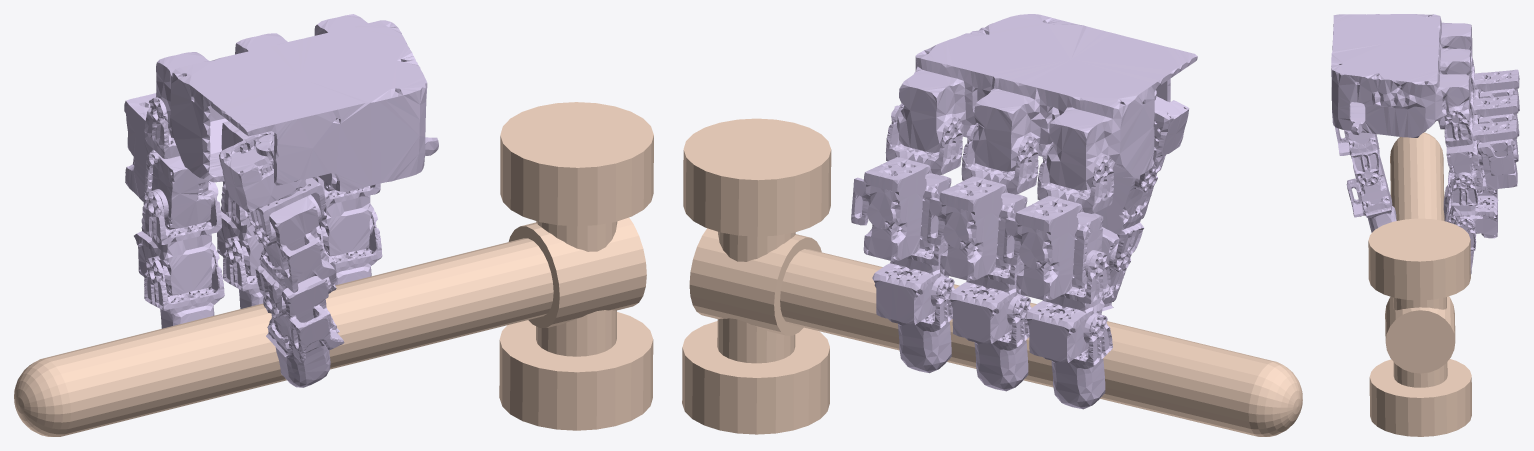
Rendered from 6b3b8f2dd5d667-closed.glb.
The picture shows the model from 3 angles, left to right: view 1: azimuth 30°, elevation 25°; view 2: azimuth 150°, elevation 25°; view 3: azimuth 270°, elevation 25°; orthographic projection. The views are drawn at different scales.
Visible parts, largest first — view 1: world, LEAP_hand; view 2: LEAP_hand, world; view 3: LEAP_hand, world.
Boxes of the visible parts, x1=… form: world: x1=14, y1=102, x2=653, y2=436; LEAP_hand: x1=124, y1=14, x2=438, y2=387; LEAP_hand: x1=851, y1=14, x2=1197, y2=409; world: x1=682, y1=118, x2=1302, y2=436; LEAP_hand: x1=1331, y1=14, x2=1519, y2=274; world: x1=1368, y1=132, x2=1471, y2=436.
Size of the model in its own units: 0.3581 by 0.2259 by 0.1405.
